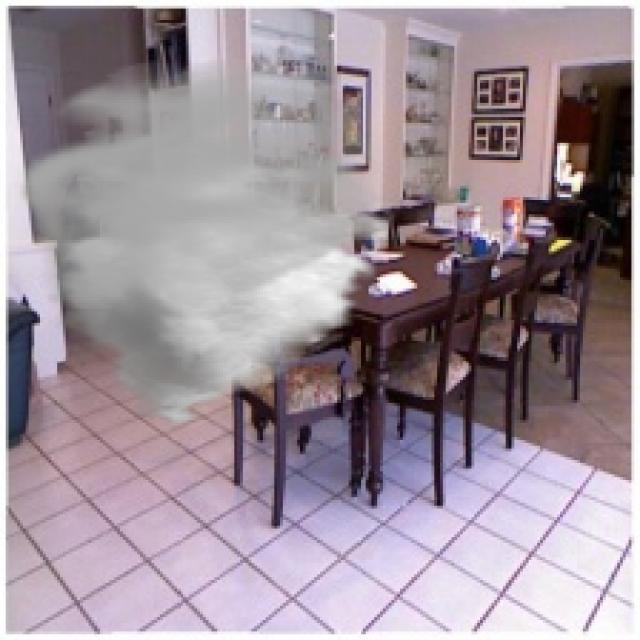Smoke: (14, 57, 389, 429)
